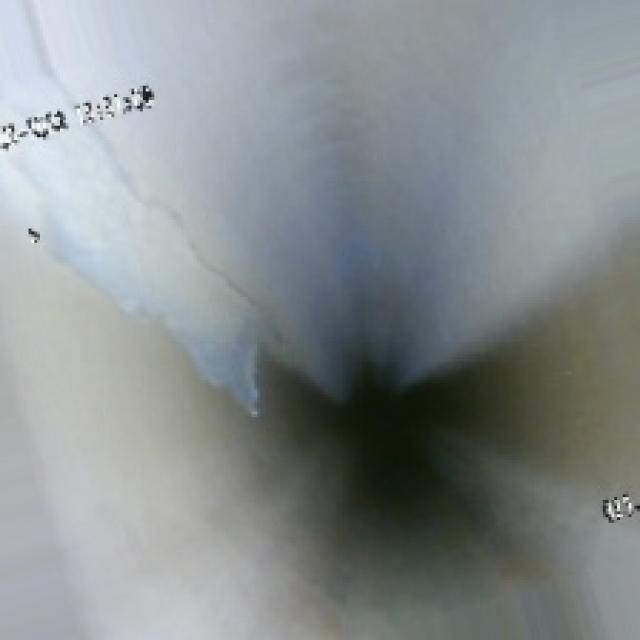pipe_surface_damage: (63, 146, 277, 403)
